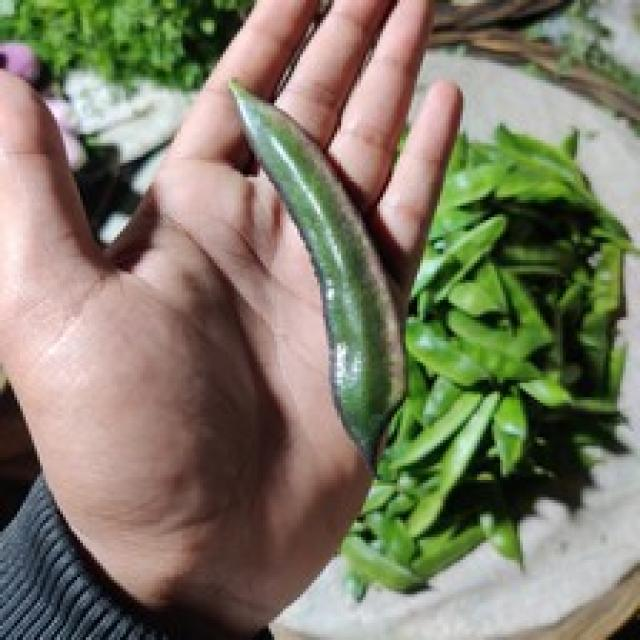Bean: (226, 74, 406, 474)
